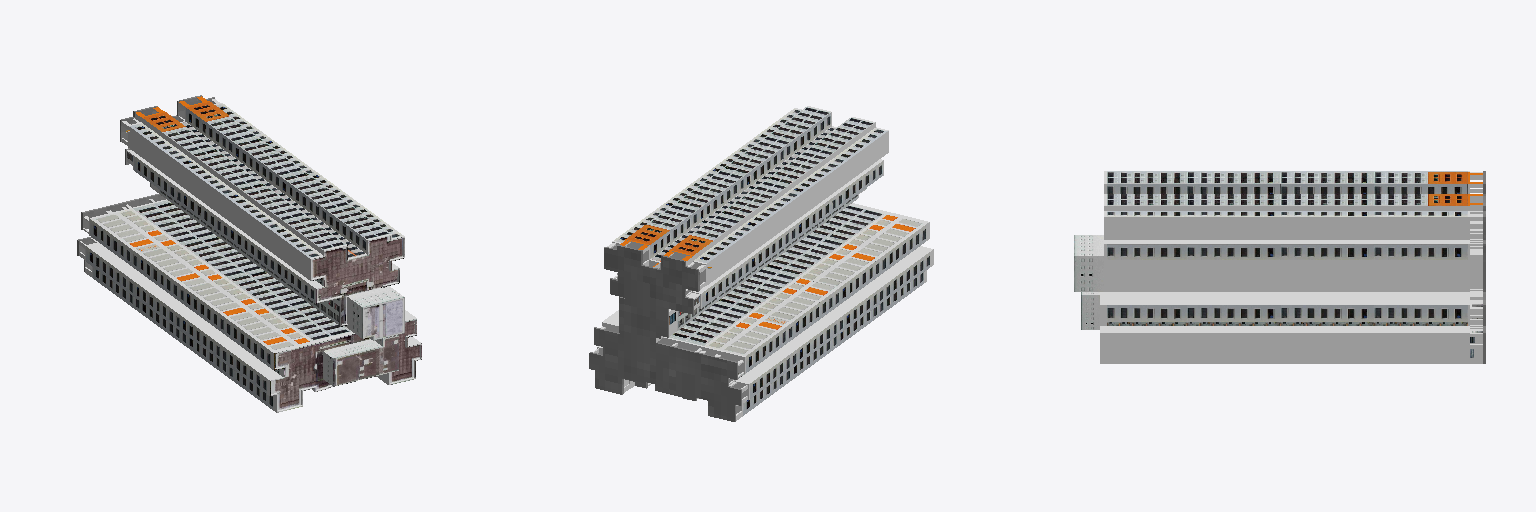
The picture shows the model from 3 angles: view 1: azimuth 30°, elevation 25°; view 2: azimuth 150°, elevation 25°; view 3: azimuth 270°, elevation 25°; orthographic projection.
Visible parts, largest first — view 1: polygon.840; view 2: polygon.840; view 3: polygon.840.
Part boxes in pixels (left/top/right/bottom): polygon.840: left=77, top=95, right=421, bottom=412; polygon.840: left=589, top=106, right=933, bottom=421; polygon.840: left=1074, top=171, right=1485, bottom=363.
Bounding box in the file's own units: 37.42 × 35.04 × 87.88.
Materials: 1 (1 with a texture image).